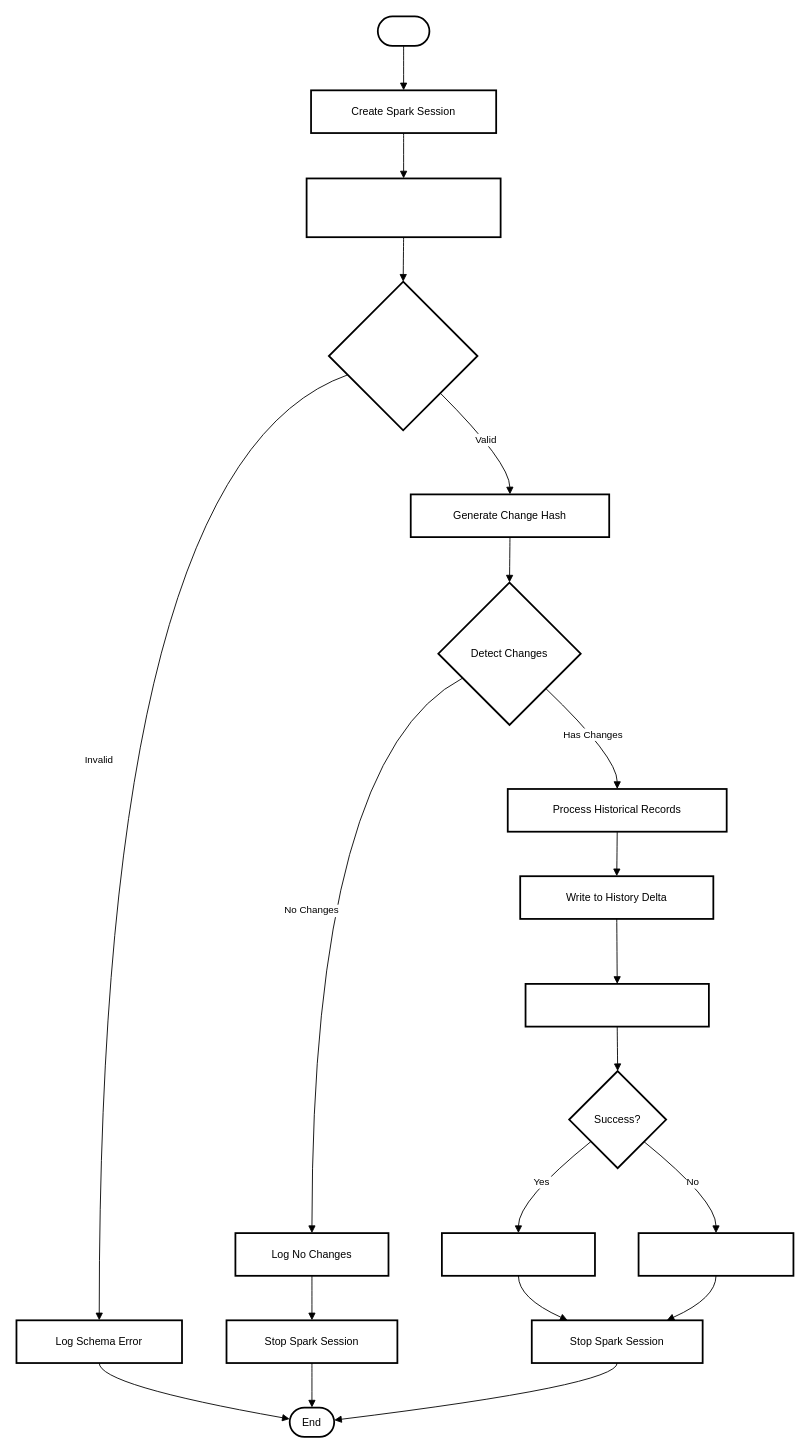
This 809x1452 diagram has some shape labels left out. Each missing label, with the centre of its shape:
"Load Source, Current, History Data" goes at (403,207).
"Log Completion" goes at (518,1254).
"Log Merge Error" goes at (715,1254).
"Merge Current Delta" goes at (616,1005).
"Start" goes at (403,30).
"Validate Schema" goes at (403,355).
